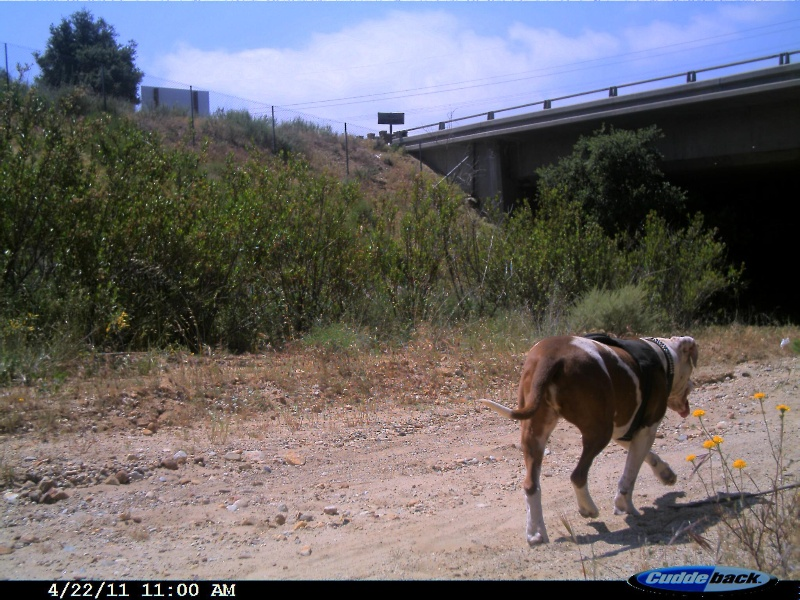dog: (508, 330, 701, 555)
